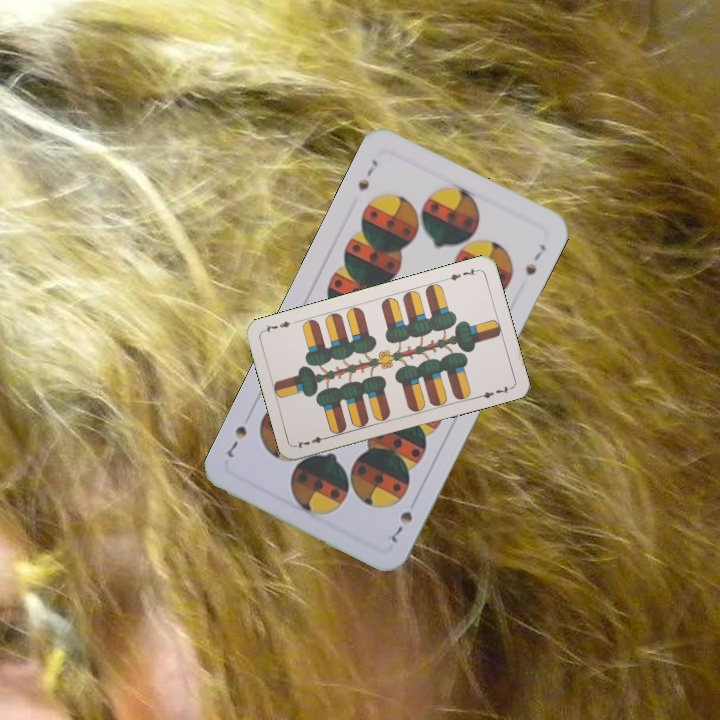E7: (441, 264, 481, 283), (292, 432, 332, 451)
S7: (382, 507, 416, 546), (354, 155, 381, 193)
